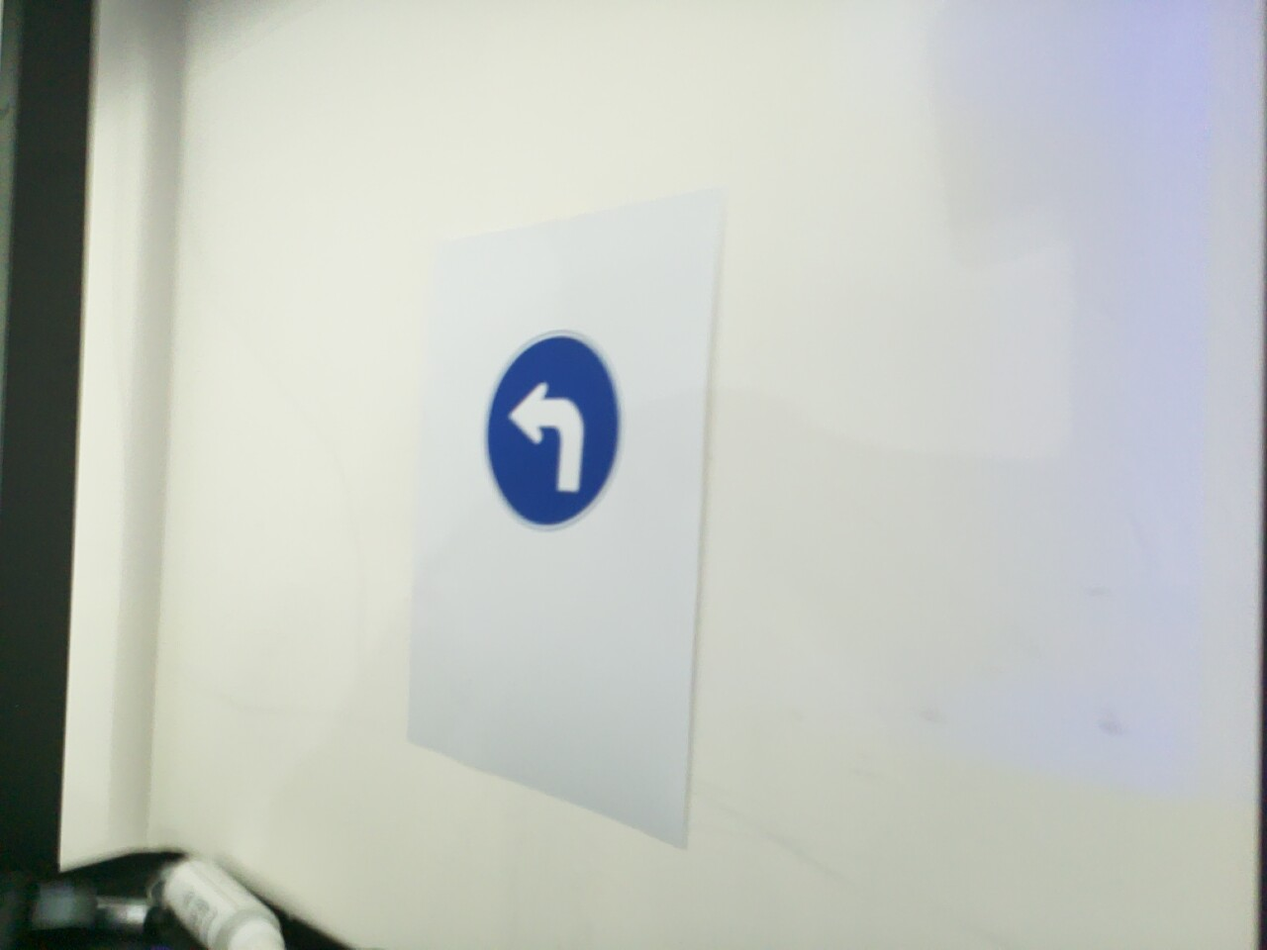left_turn: (481, 330, 625, 532)
